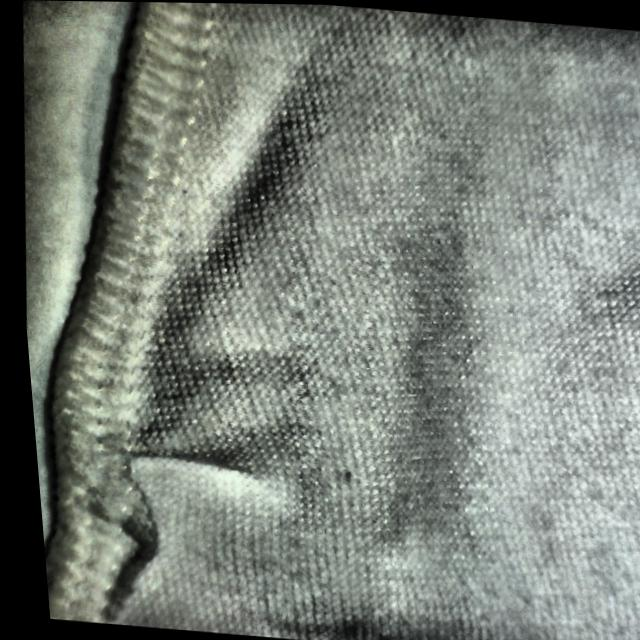seam: (32, 407, 236, 619)
